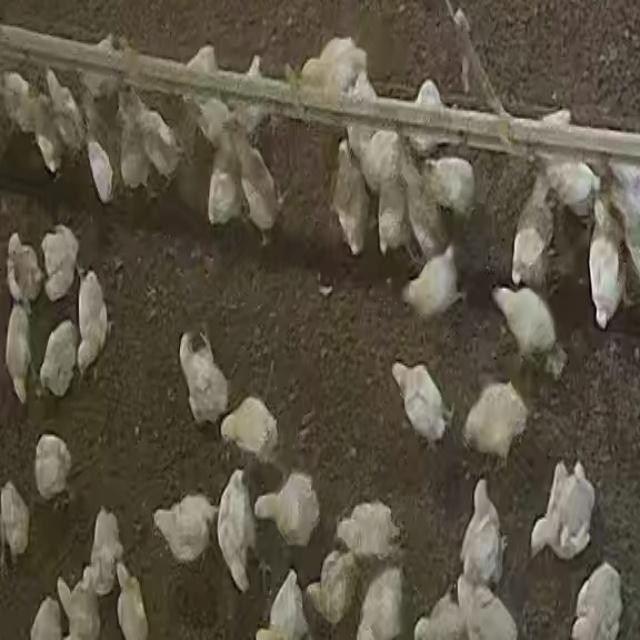chicken: (528, 460, 594, 561), (461, 381, 529, 463), (296, 37, 372, 109), (398, 147, 444, 265), (126, 81, 183, 175), (457, 478, 504, 590), (217, 467, 259, 592), (586, 191, 624, 328), (235, 128, 280, 242), (393, 361, 451, 449), (178, 328, 229, 428), (252, 471, 319, 547), (513, 164, 554, 285), (495, 283, 556, 361), (152, 494, 218, 565), (330, 142, 368, 258), (307, 544, 359, 626), (344, 68, 382, 177), (44, 69, 86, 167), (454, 576, 518, 640), (334, 500, 400, 562), (219, 396, 279, 464), (74, 271, 110, 381), (402, 249, 461, 316), (182, 44, 220, 148), (570, 563, 621, 640), (354, 566, 405, 640), (257, 569, 310, 640), (542, 156, 599, 222), (376, 152, 410, 262), (83, 506, 124, 596), (206, 128, 242, 230), (422, 155, 476, 220), (38, 319, 80, 401), (76, 31, 122, 103), (114, 98, 152, 185), (411, 78, 452, 158), (40, 222, 80, 302), (31, 84, 64, 180), (4, 304, 34, 408), (362, 127, 404, 199), (5, 230, 43, 306), (233, 57, 269, 137), (56, 573, 99, 639), (411, 588, 464, 640), (0, 479, 30, 567), (34, 433, 72, 502), (2, 69, 37, 143), (115, 563, 149, 639), (29, 597, 64, 640)
